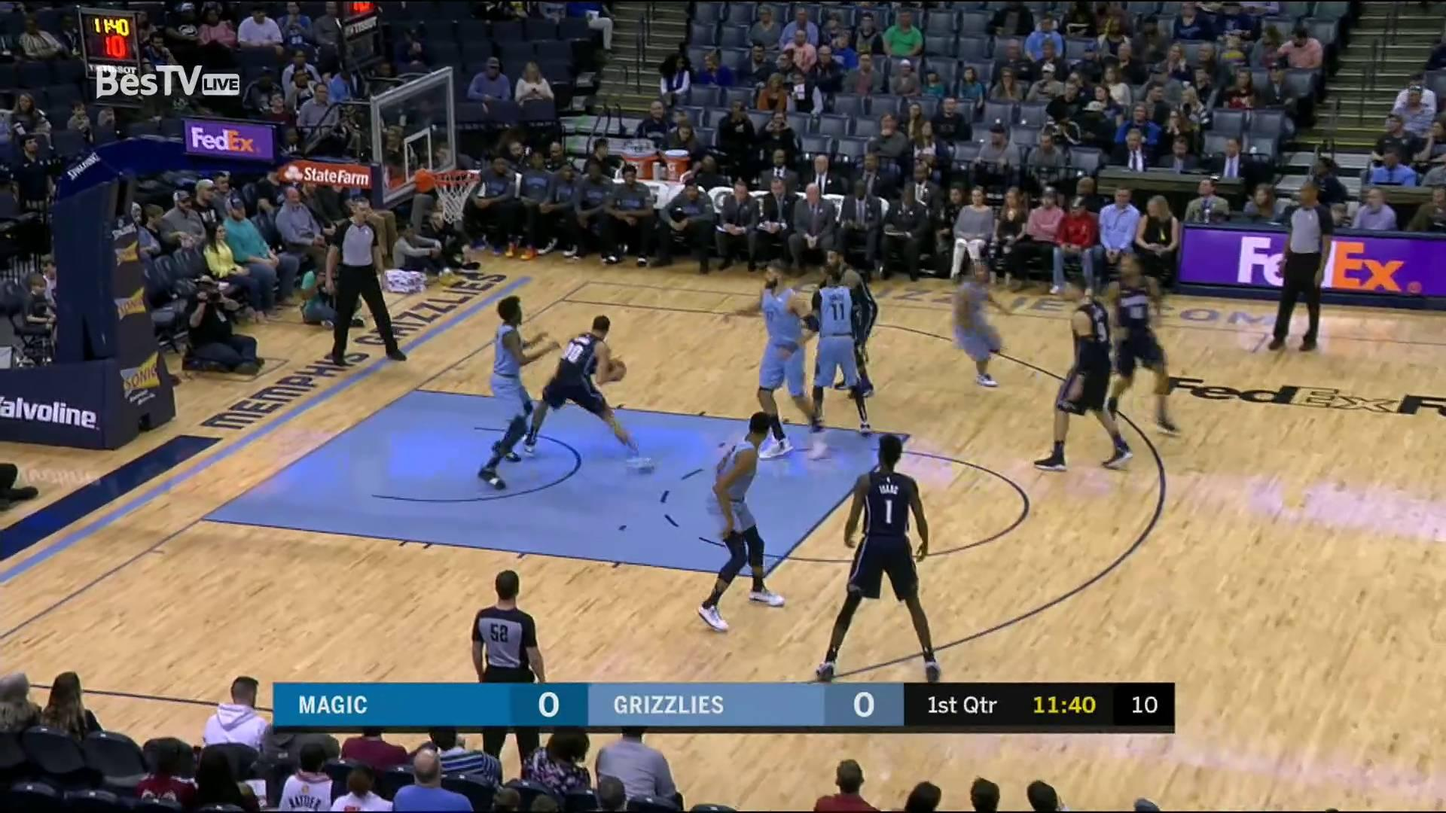basketball: (601, 358, 626, 382)
